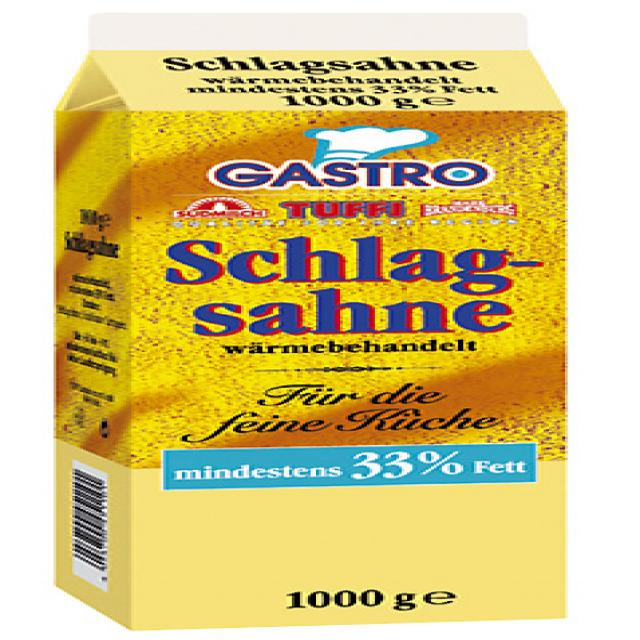Cream: (54, 13, 565, 631)
